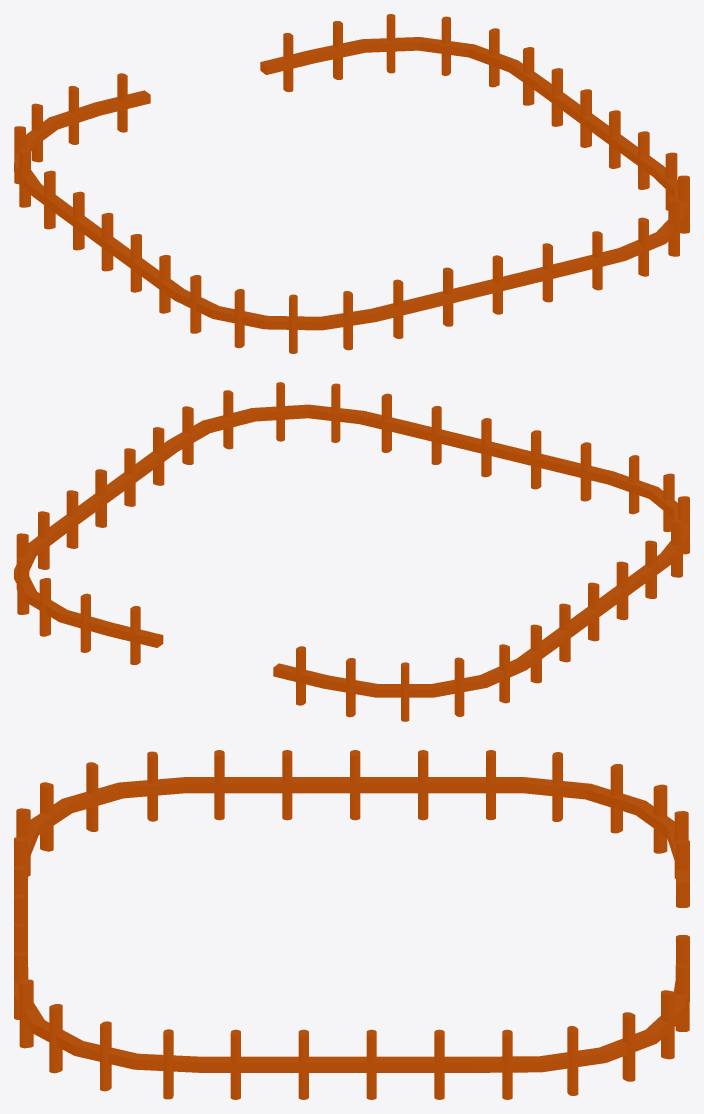
The model's file is Fence.fbx.
3 views of the same model, one above another, from view 1: azimuth 30°, elevation 25°; view 2: azimuth 150°, elevation 25°; view 3: azimuth 270°, elevation 25° (orthographic). The views are drawn at different scales.
Visible parts, largest first — view 1: FencePart.067, FencePart.017, FencePart.003, FencePart.005, FencePart.039, FencePart.007, FencePart.011, FencePart.009, FencePart.013, FencePart.063, FencePart.015, FencePart.061 (+20 smaller); view 2: FencePart.067, FencePart.011, FencePart.033, FencePart.007, FencePart.009, FencePart.003, FencePart.005, FencePart.037, FencePart.065, FencePart.041, FencePart.035, FencePart.039 (+19 smaller); view 3: FencePart.053, FencePart.023, FencePart.021, FencePart.055, FencePart.057, FencePart.051, FencePart.049, FencePart.025, FencePart.027, FencePart.059, FencePart.047, FencePart.029 (+16 smaller).
Boxes of the visible parts, x1,y1,x2,y2 form: FencePart.067: [260, 33, 315, 92]; FencePart.017: [212, 289, 266, 348]; FencePart.003: [570, 231, 625, 290]; FencePart.005: [520, 243, 575, 302]; FencePart.039: [95, 73, 150, 132]; FencePart.007: [470, 255, 525, 314]; FencePart.011: [371, 279, 425, 338]; FencePart.009: [420, 267, 475, 326]; FencePart.013: [320, 291, 376, 350]; FencePart.063: [362, 14, 419, 73]; FencePart.015: [264, 294, 321, 353]; FencePart.061: [418, 16, 474, 75]; FencePart.067: [107, 606, 163, 664]; FencePart.011: [558, 442, 613, 501]; FencePart.033: [432, 657, 486, 716]; FencePart.007: [458, 418, 513, 477]; FencePart.009: [508, 430, 563, 489]; FencePart.003: [359, 393, 414, 452]; FencePart.005: [409, 406, 463, 464]; FencePart.037: [323, 658, 378, 717]; FencePart.065: [59, 593, 112, 652]; FencePart.041: [308, 383, 363, 442]; FencePart.035: [376, 662, 433, 721]; FencePart.039: [273, 646, 328, 705]; FencePart.053: [337, 1029, 405, 1099]; FencePart.023: [253, 750, 321, 820]; FencePart.021: [185, 750, 253, 820]; FencePart.055: [405, 1029, 473, 1099]; FencePart.057: [473, 1029, 541, 1099]; FencePart.051: [269, 1029, 337, 1099]; FencePart.049: [201, 1029, 269, 1099]; FencePart.025: [321, 750, 389, 820]; FencePart.027: [389, 750, 457, 820]; FencePart.059: [540, 1026, 606, 1095]; FencePart.047: [134, 1029, 201, 1099]; FencePart.029: [457, 750, 524, 820].
Size of the model in its own units: 19.1 by 19.1 by 2.
